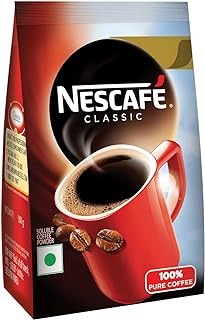Coffee: (3, 1, 205, 319)
